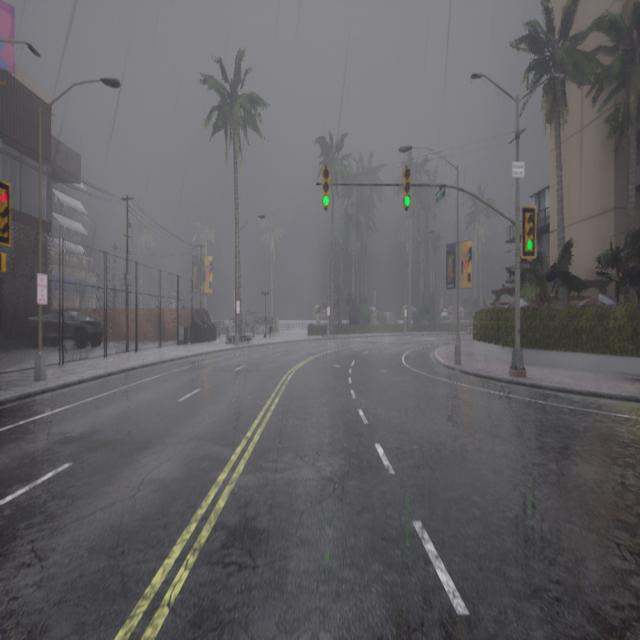6: (0, 186, 10, 206)
9: (0, 175, 13, 251), (522, 206, 536, 258), (322, 165, 332, 211), (402, 165, 412, 210)
bien_hieu_lenh: (403, 192, 411, 208), (322, 193, 330, 208), (526, 237, 533, 251)
